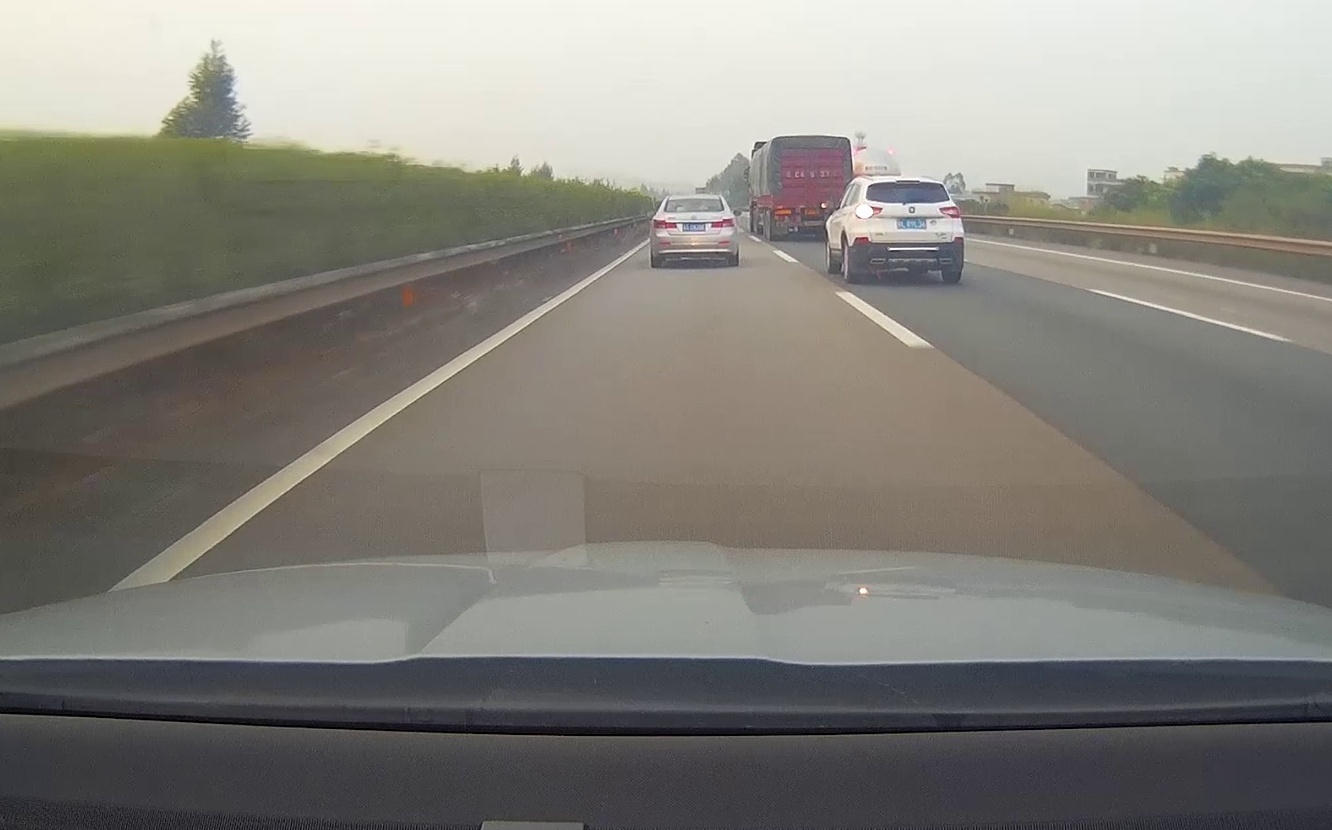L_light: (856, 205, 883, 218), (653, 219, 677, 228)
R_light: (711, 217, 735, 228), (939, 206, 961, 218)
T_light: (896, 179, 921, 184), (689, 197, 700, 200)
day-left: (850, 175, 965, 283)
day-no: (650, 193, 739, 267)
